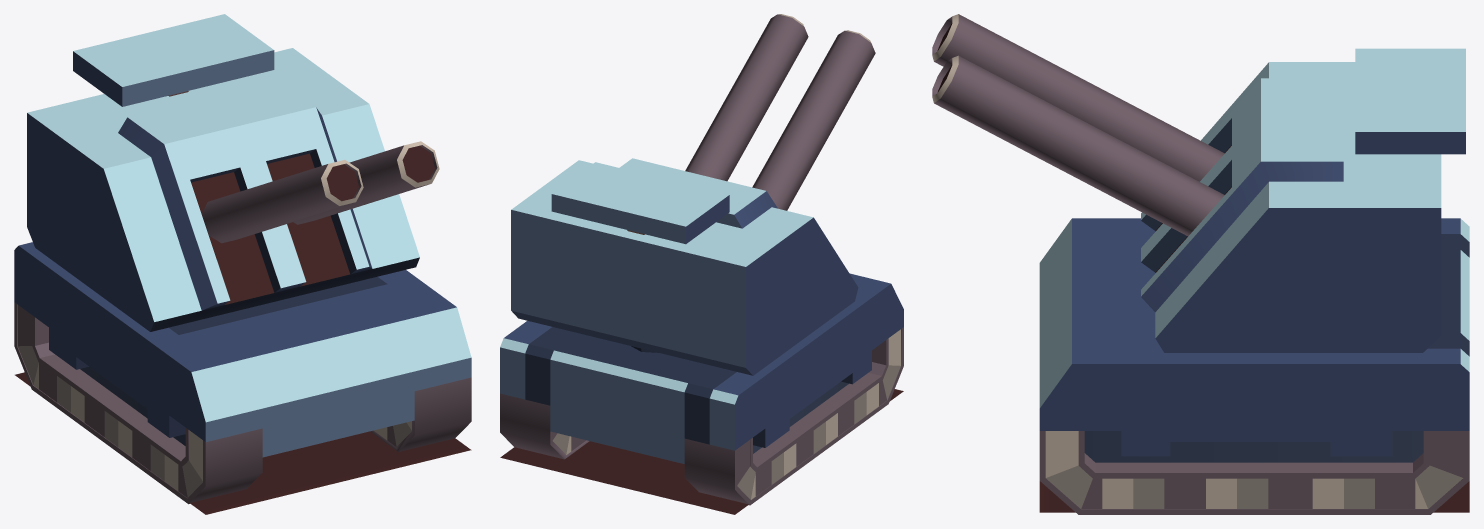
File: AntiAirMesh.SilverClaw.glb
3 views of the same model, side by side, from view 1: azimuth 30°, elevation 25°; view 2: azimuth 150°, elevation 25°; view 3: azimuth 270°, elevation 25° (orthographic). The views are drawn at different scales.
Visible parts, largest first — view 1: AntiAirMesh.SilverClaw; view 2: AntiAirMesh.SilverClaw; view 3: AntiAirMesh.SilverClaw.
Part boxes in pixels (left/top/right/bottom): AntiAirMesh.SilverClaw: left=14, top=14, right=471, bottom=514; AntiAirMesh.SilverClaw: left=500, top=14, right=903, bottom=514; AntiAirMesh.SilverClaw: left=932, top=14, right=1469, bottom=514.
Size of the model in its own units: 1.4 by 1.8 by 2.18.
1 material, 1 textured.
